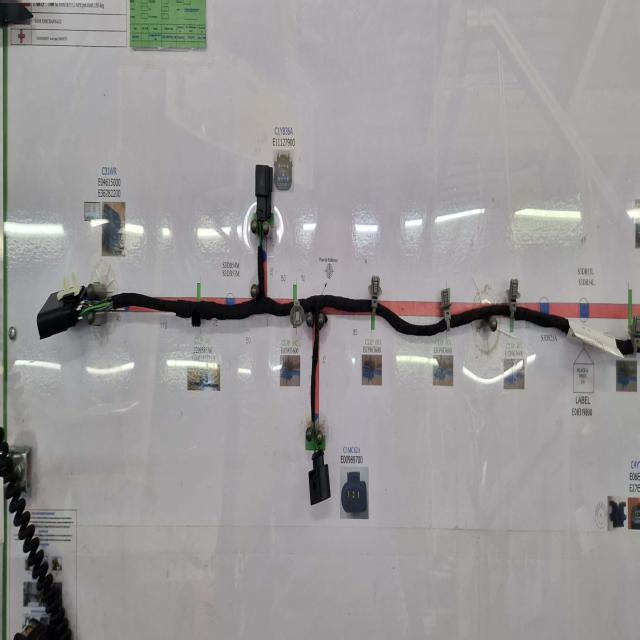Clip: (289, 288, 305, 331), (368, 276, 380, 328), (626, 314, 640, 353), (506, 289, 518, 328), (191, 288, 201, 331), (440, 298, 449, 341)
Connector: (37, 290, 78, 337), (309, 451, 330, 509), (256, 163, 272, 217)
Gape: (80, 297, 114, 325)
Info: (568, 318, 623, 356)
MHEV_N11_Cable: (112, 255, 293, 321), (299, 293, 370, 424), (375, 305, 445, 337), (515, 304, 573, 334), (449, 301, 511, 328)
